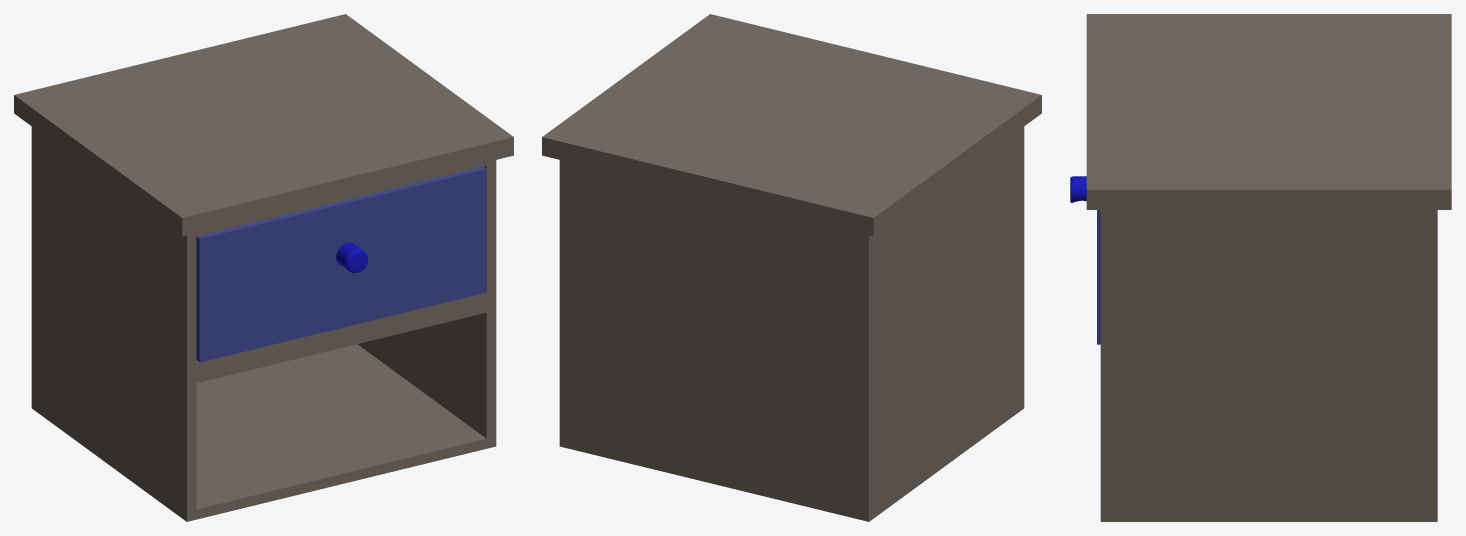
Rendered from SideTable.fbx.
3 views of the same model, side by side, from view 1: azimuth 30°, elevation 25°; view 2: azimuth 150°, elevation 25°; view 3: azimuth 270°, elevation 25° (orthographic). The views are drawn at different scales.
Visible parts, largest first — view 1: SideTable; view 2: SideTable; view 3: SideTable.
Part boxes in pixels (box(x1,y1,x2,y2)): SideTable: box(14, 14, 513, 521); SideTable: box(542, 14, 1041, 521); SideTable: box(1070, 14, 1451, 521).
Bounding box in the file's own units: 45.04 × 40.4 × 41.32.
